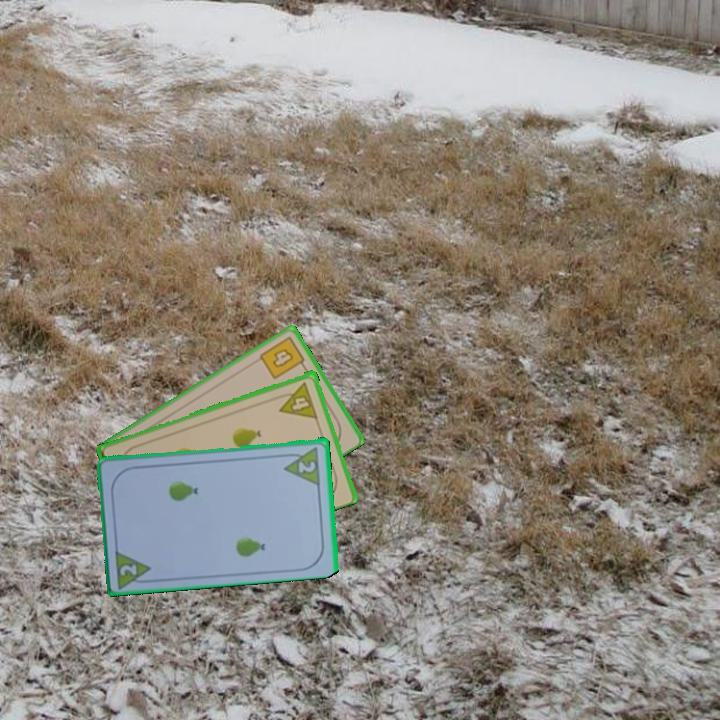2p: (280, 443, 323, 487), (116, 560, 140, 578)
4b: (256, 332, 310, 382)
4p: (273, 378, 320, 421)
